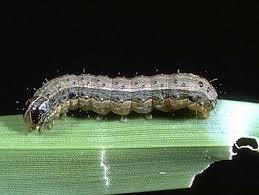fallarmy_worm: (18, 67, 223, 138)
